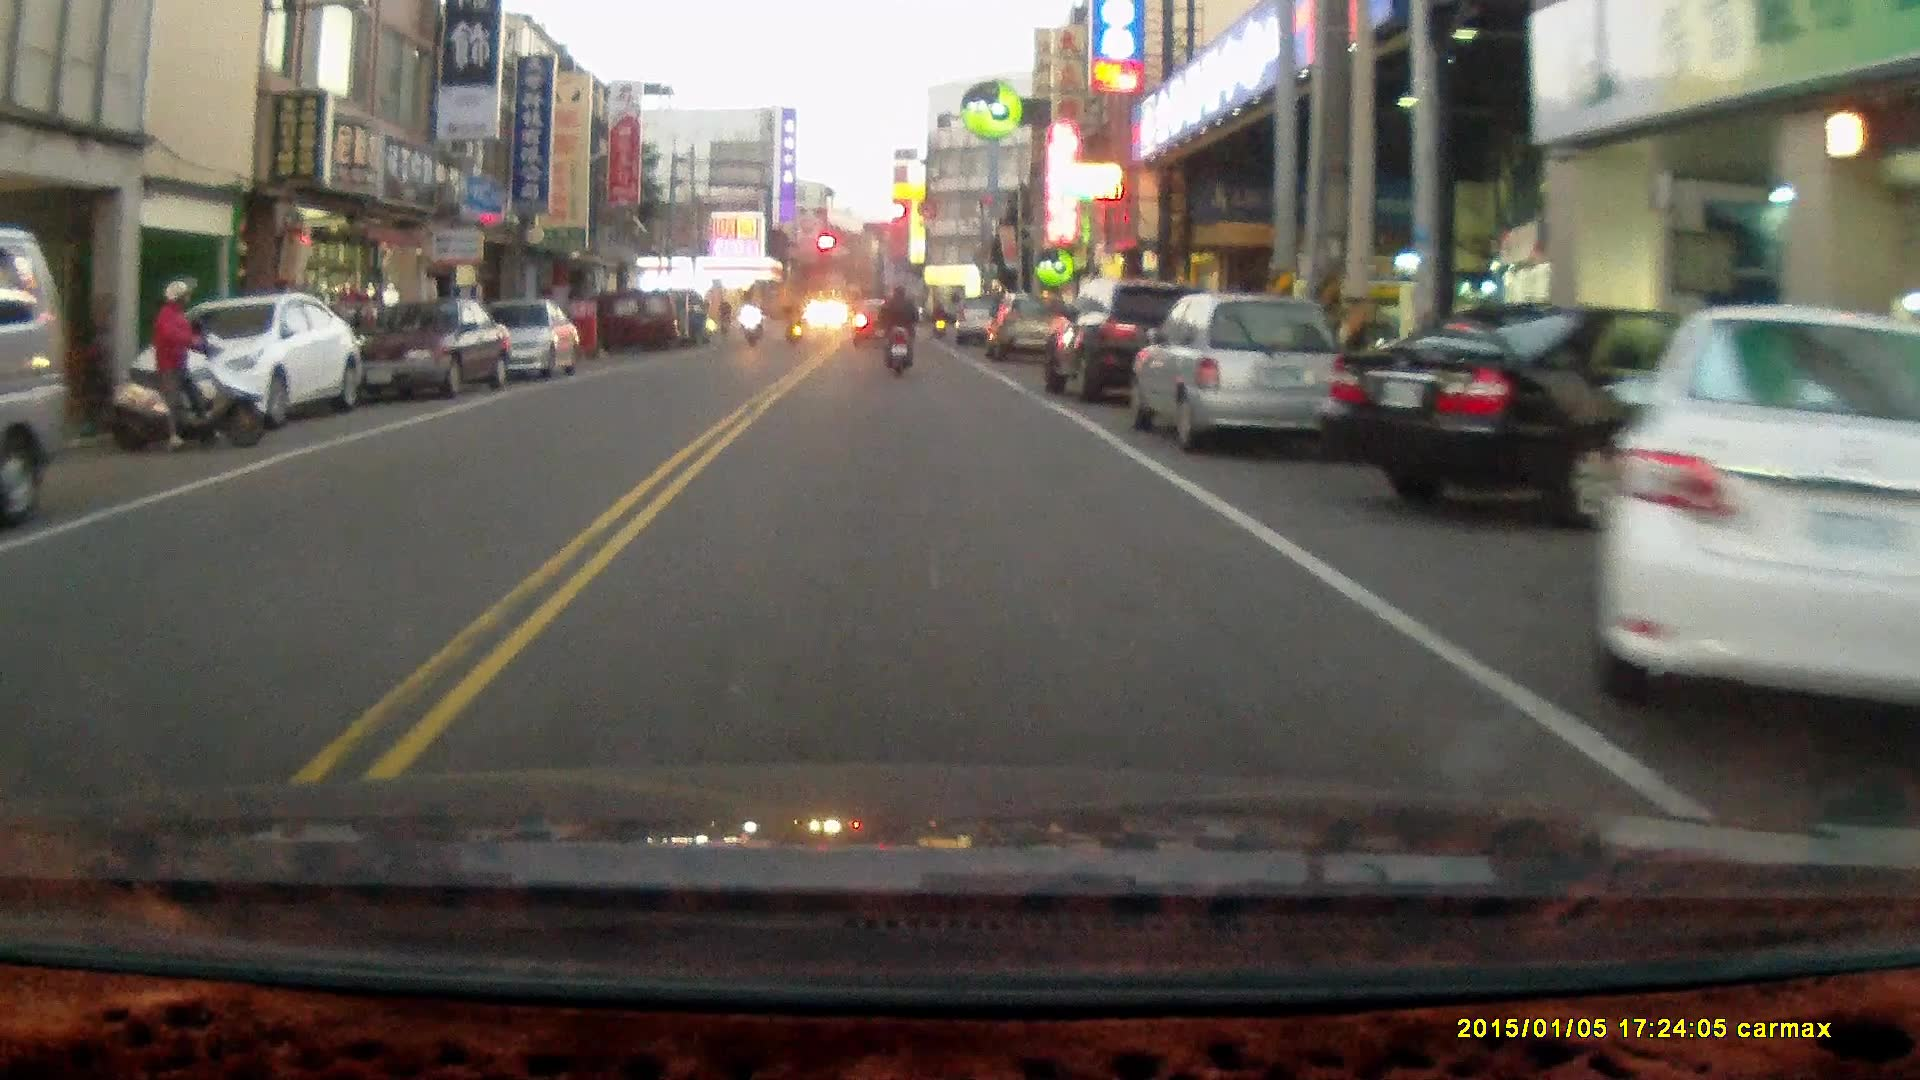rider: (101, 274, 260, 452), (875, 279, 918, 379), (737, 298, 764, 348)
vehicle: (1323, 300, 1881, 529), (1607, 302, 1920, 707), (1136, 293, 1352, 449), (127, 291, 358, 428), (1040, 274, 1229, 405), (1, 227, 73, 529), (345, 299, 506, 399), (458, 296, 584, 383)
